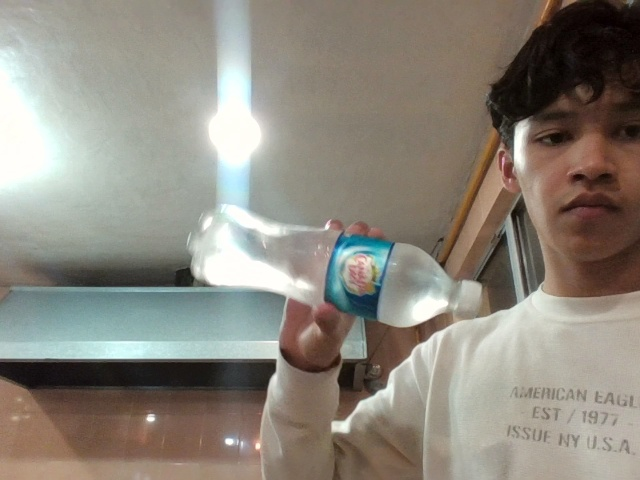botella: (177, 155, 509, 370)
